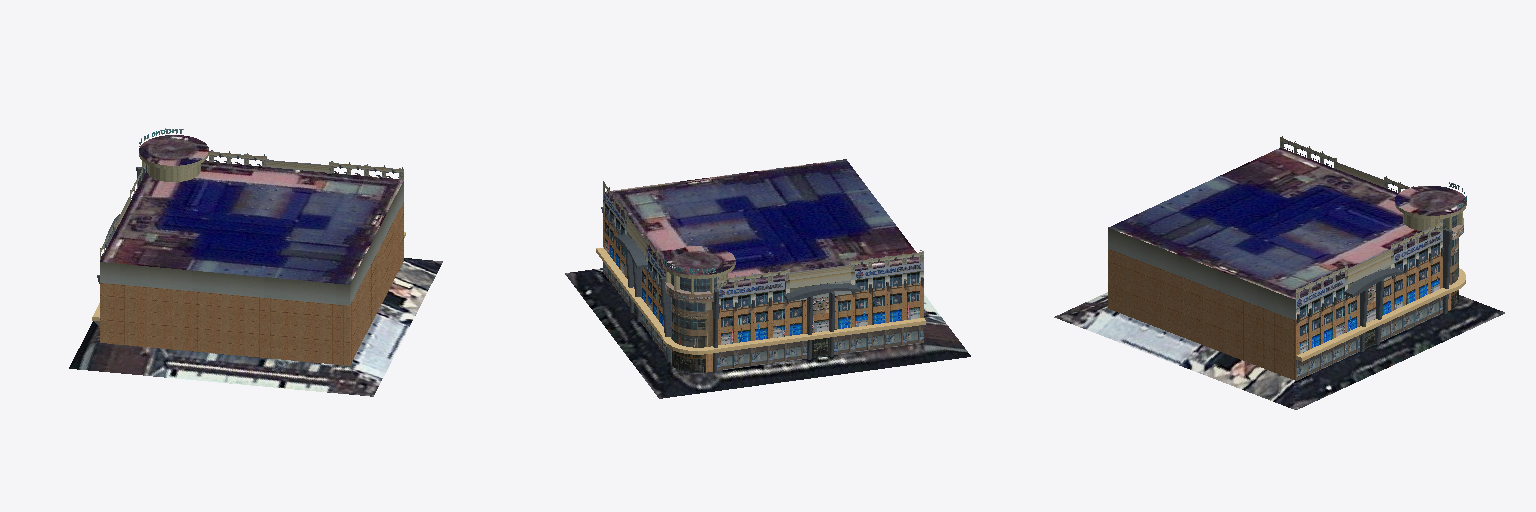
3 renders of one model, left to right at view 1: azimuth 30°, elevation 25°; view 2: azimuth 150°, elevation 25°; view 3: azimuth 270°, elevation 25°, orthographic.
Parts seen in each view (by area): view 1: Mesh94 Component1 skpDDC7_1 Model, Mesh90 Component1 skpDDC7_1 Model, Mesh97 Component1 skpDDC7_1 Model, Mesh44 Component_5_1 Component1 skpDDC7_1 Model; view 2: Mesh94 Component1 skpDDC7_1 Model, Mesh90 Component1 skpDDC7_1 Model, Mesh73 Component_5_2 Component1 skpDDC7_1 Model, Mesh97 Component1 skpDDC7_1 Model, Mesh34 Component_5_1 Component1 skpDDC7_1 Model, Mesh1 Component_1_1 Component1 skpDDC7_1 Model, Mesh75 Component_5_2 Component1 skpDDC7_1 Model, Mesh95 Component1 skpDDC7_1 Model, Mesh72 Component_5_2 Component1 skpDDC7_1 Model, Mesh84 Component_5_2 Component1 skpDDC7_1 Model, Mesh96 Component1 skpDDC7_1 Model, Mesh49 Component_7_2 Component_5_2 Component1 skpDDC7_1 Model (+2 smaller); view 3: Mesh94 Component1 skpDDC7_1 Model, Mesh90 Component1 skpDDC7_1 Model, Mesh34 Component_5_1 Component1 skpDDC7_1 Model, Mesh97 Component1 skpDDC7_1 Model, Mesh96 Component1 skpDDC7_1 Model, Mesh36 Component_5_1 Component1 skpDDC7_1 Model, Mesh33 Component_5_1 Component1 skpDDC7_1 Model, Mesh45 Component_5_1 Component1 skpDDC7_1 Model, Mesh10 Component_7_1 Component_5_1 Component1 skpDDC7_1 Model, Mesh7 Component_4_2 Component1 skpDDC7_1 Model.
Boxes of the visible parts, <box> form: Mesh94 Component1 skpDDC7_1 Model: <box>100,161,403,365</box>; Mesh90 Component1 skpDDC7_1 Model: <box>69,258,442,396</box>; Mesh97 Component1 skpDDC7_1 Model: <box>139,135,208,181</box>; Mesh44 Component_5_1 Component1 skpDDC7_1 Model: <box>329,161,403,179</box>; Mesh94 Component1 skpDDC7_1 Model: <box>606,159,918,288</box>; Mesh90 Component1 skpDDC7_1 Model: <box>565,268,970,398</box>; Mesh73 Component_5_2 Component1 skpDDC7_1 Model: <box>718,250,923,344</box>; Mesh97 Component1 skpDDC7_1 Model: <box>663,246,735,291</box>; Mesh34 Component_5_1 Component1 skpDDC7_1 Model: <box>603,192,665,326</box>; Mesh1 Component_1_1 Component1 skpDDC7_1 Model: <box>671,297,712,347</box>; Mesh75 Component_5_2 Component1 skpDDC7_1 Model: <box>717,341,806,370</box>; Mesh95 Component1 skpDDC7_1 Model: <box>718,318,925,351</box>; Mesh72 Component_5_2 Component1 skpDDC7_1 Model: <box>834,330,923,354</box>; Mesh84 Component_5_2 Component1 skpDDC7_1 Model: <box>790,264,850,287</box>; Mesh96 Component1 skpDDC7_1 Model: <box>596,247,664,338</box>; Mesh49 Component_7_2 Component_5_2 Component1 skpDDC7_1 Model: <box>784,284,859,301</box>; Mesh94 Component1 skpDDC7_1 Model: <box>1108,148,1439,380</box>; Mesh90 Component1 skpDDC7_1 Model: <box>1054,269,1504,409</box>; Mesh34 Component_5_1 Component1 skpDDC7_1 Model: <box>1296,221,1442,355</box>; Mesh97 Component1 skpDDC7_1 Model: <box>1395,186,1466,231</box>; Mesh96 Component1 skpDDC7_1 Model: <box>1296,288,1448,361</box>; Mesh36 Component_5_1 Component1 skpDDC7_1 Model: <box>1296,336,1359,380</box>; Mesh33 Component_5_1 Component1 skpDDC7_1 Model: <box>1380,300,1442,341</box>; Mesh45 Component_5_1 Component1 skpDDC7_1 Model: <box>1348,249,1390,283</box>; Mesh10 Component_7_1 Component_5_1 Component1 skpDDC7_1 Model: <box>1344,268,1403,297</box>; Mesh7 Component_4_2 Component1 skpDDC7_1 Model: <box>1443,228,1452,313</box>.
Size of the model in its own units: 4599 by 1328 by 4610.
Materials: 27 (26 with a texture image).